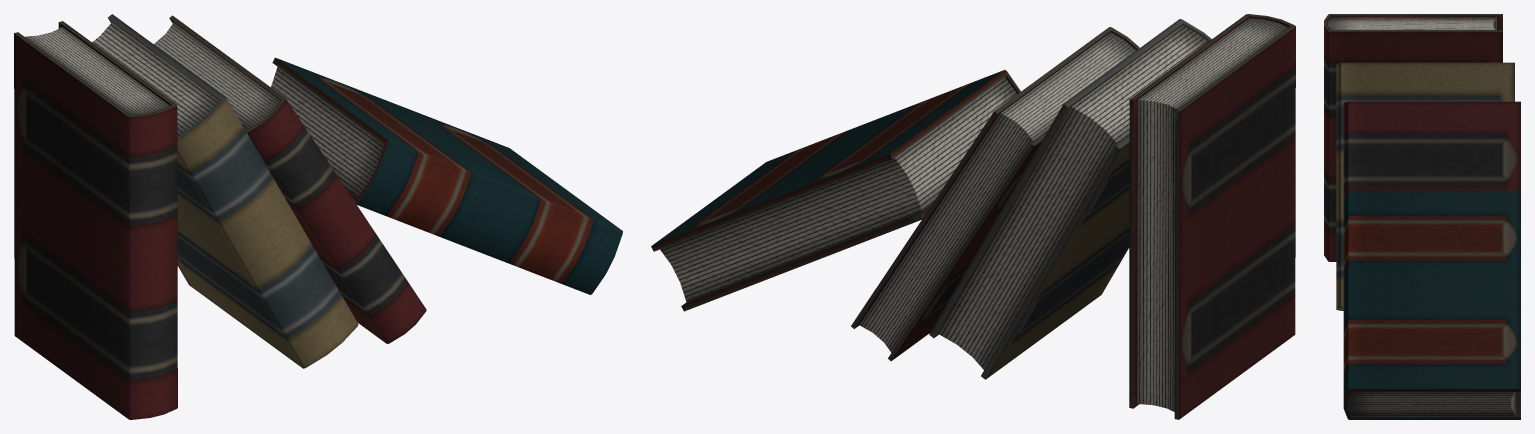
The model's file is CI_070_books_tilted.glb.
3 renders of one model, left to right at view 1: azimuth 30°, elevation 25°; view 2: azimuth 150°, elevation 25°; view 3: azimuth 270°, elevation 25°, orthographic. The views are drawn at different scales.
Visible parts, largest first — view 1: book_1, book_4, book_3, book_2; view 2: book_1, book_3, book_4, book_2; view 3: book_4, book_2, book_1, book_3.
Part boxes in pixels (box(x1,y1,x2,y2)): book_1: box(14, 21, 177, 419); book_4: box(271, 57, 622, 294); book_3: box(92, 14, 358, 368); book_2: box(153, 15, 426, 343); book_1: box(1129, 14, 1295, 419); book_3: box(929, 19, 1211, 379); book_4: box(651, 70, 1020, 311); book_2: box(851, 27, 1139, 361); book_4: box(1343, 190, 1520, 419); book_2: box(1343, 101, 1520, 200); book_1: box(1324, 14, 1502, 261); book_3: box(1336, 62, 1514, 310).
Size of the model in its own units: 1.3 by 0.7422 by 0.5747.
Materials: 1 (1 with a texture image).
